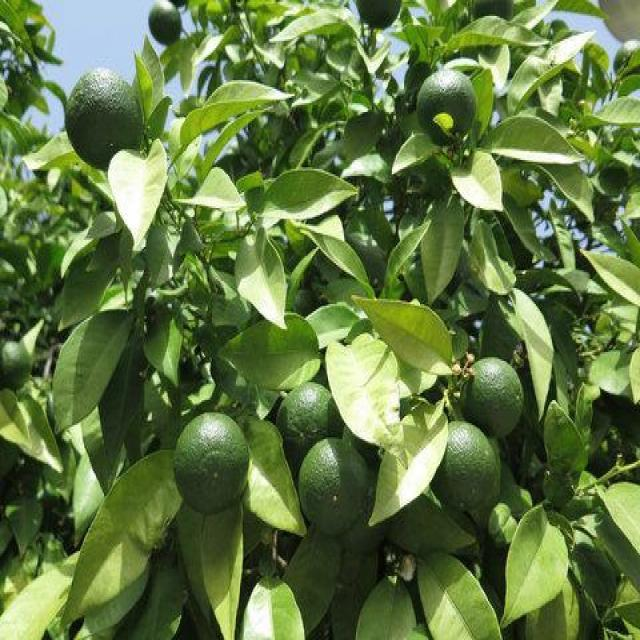Jeruk Belum Matang: (174, 410, 250, 516), (65, 71, 144, 169), (297, 438, 368, 534), (278, 384, 344, 464), (438, 423, 498, 507), (418, 70, 478, 150), (466, 357, 524, 439), (148, 1, 183, 44), (0, 340, 31, 384), (356, 0, 402, 28)
